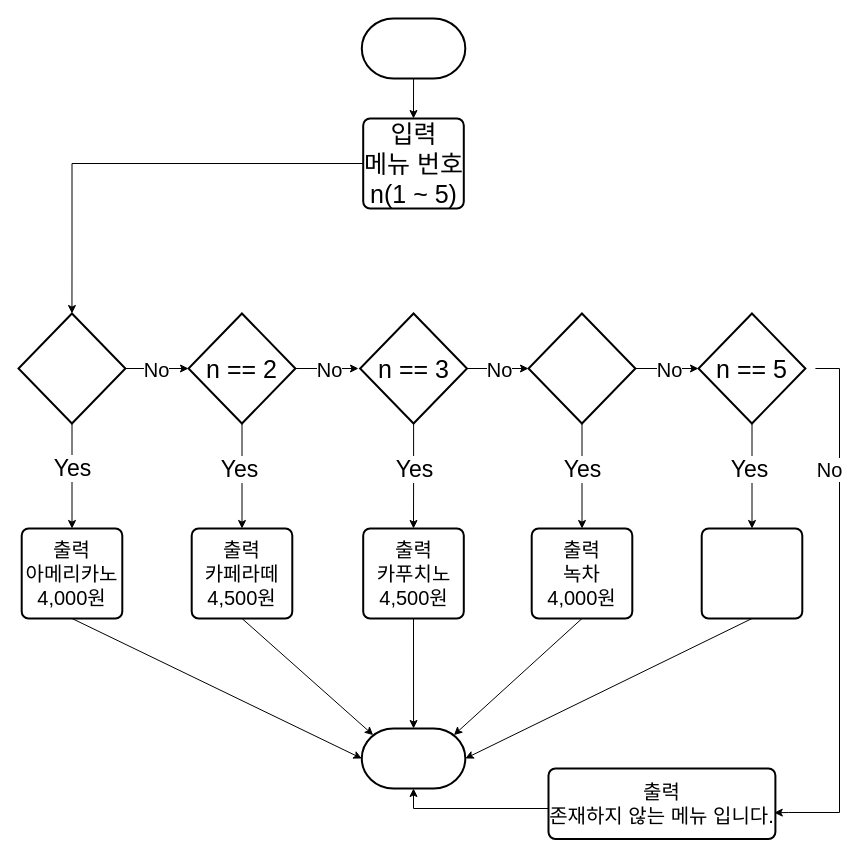
This 865x857 diagram has some shape labels left out. The box of each missing label's shape, as (x1, y1, x2, y2) in pixels:
n == 1: (17, 312, 126, 424)
n == 4: (527, 312, 636, 424)
시작: (360, 17, 466, 79)
종료: (360, 727, 466, 789)
출력 핫초코 5,000원: (700, 527, 803, 619)
